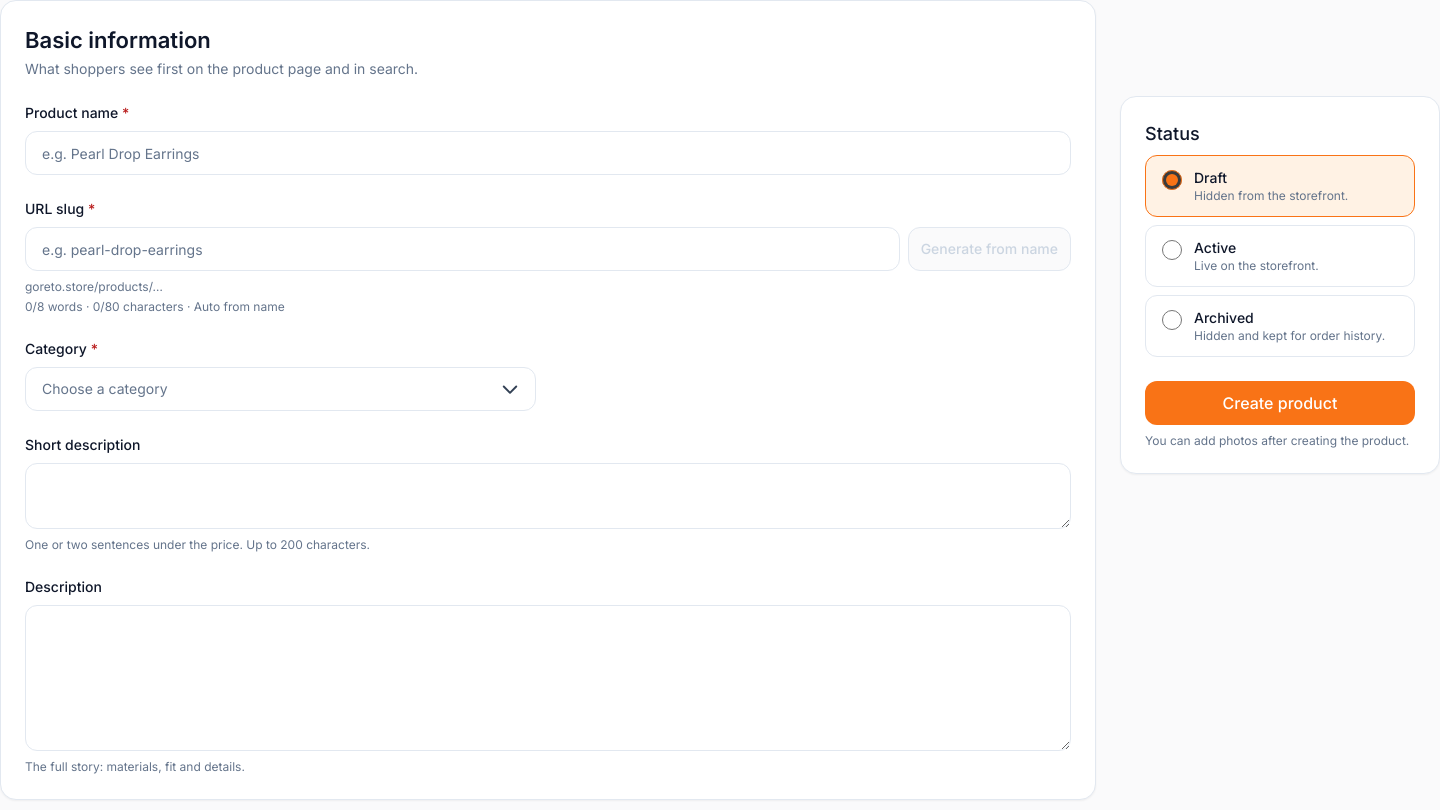
it: ProductForm › switches to a custom slug when typed, and back with Generate from name
Step 1. Type "Silk Scarf" into the field labelled "Product name *" → [548, 153], box 25,131 -> 1071,175
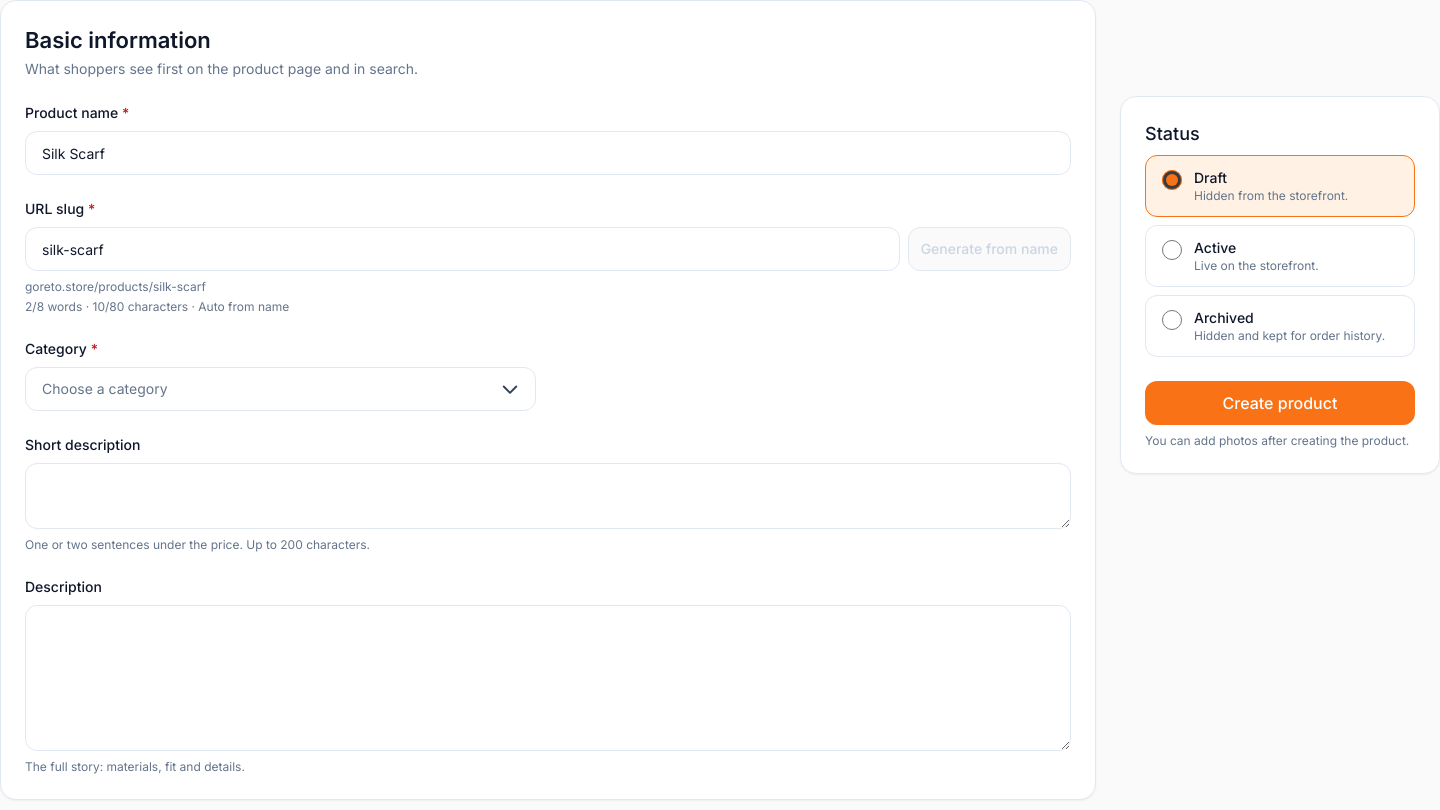
Step 2. Replace the text in the field labelled "URL slug *" with "Dhaka Topi Festival" → [462, 249], box 25,227 -> 900,271
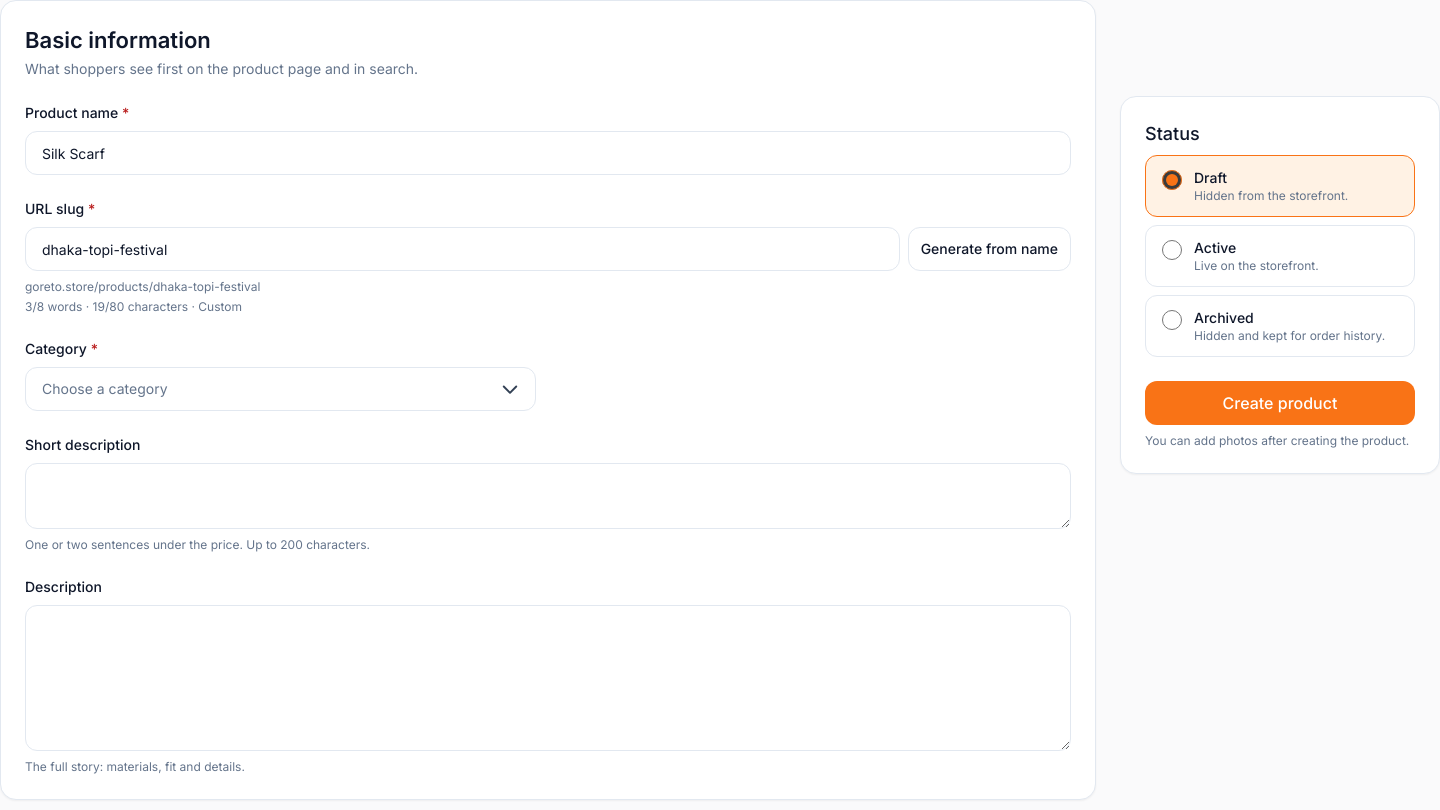
Expected: the field labelled "URL slug *" holds "dhaka-topi-festival", 25,227 -> 900,271
Expected: the text "3/8 words · 19/80 characters · Custom" is shown, 25,299 -> 242,314
Step 3. Replace the text in the field labelled "Product name *" with "Silk Scarf Blue" → [548, 153], box 25,131 -> 1071,175
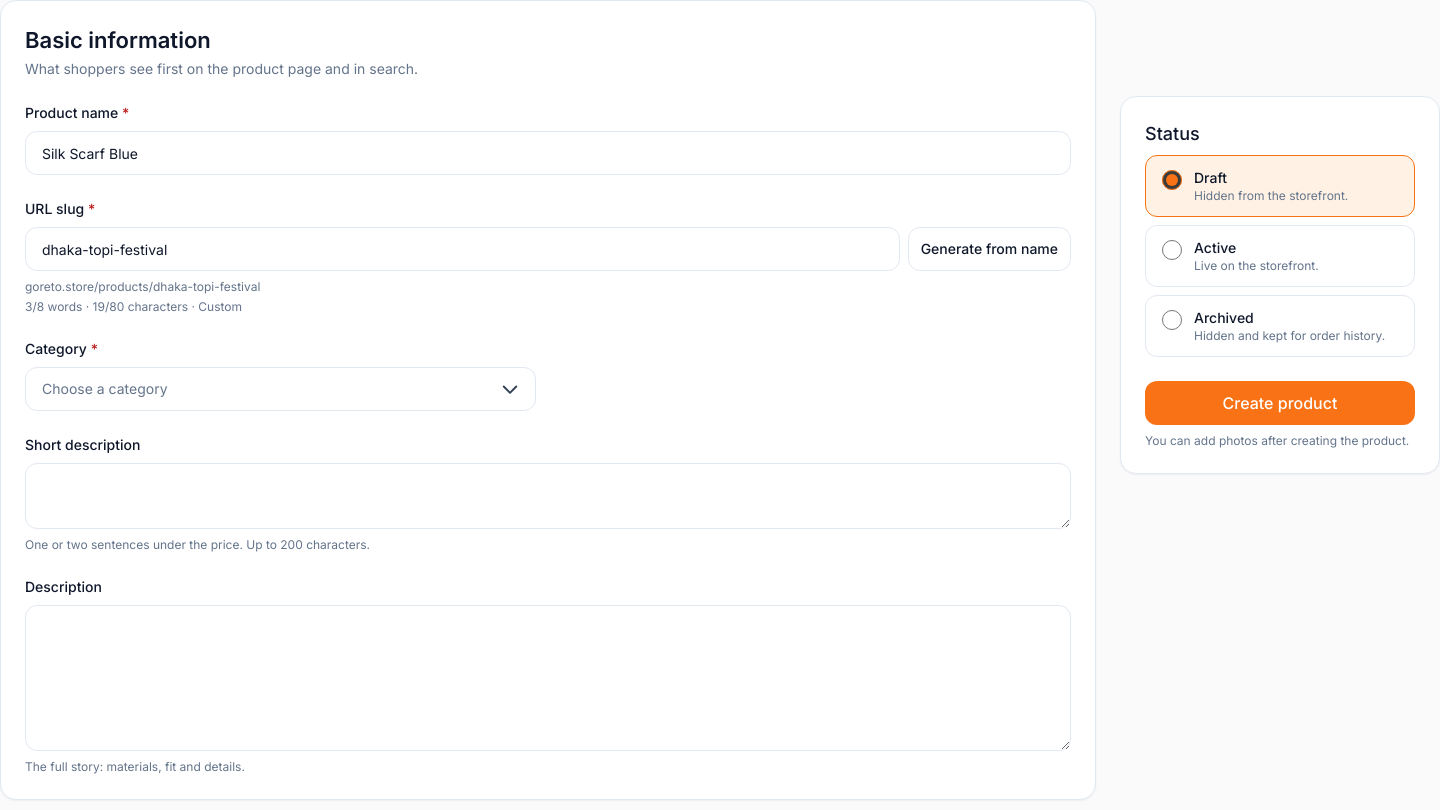
Expected: the field labelled "URL slug *" holds "dhaka-topi-festival", 25,227 -> 900,271
Step 4. Click the button "Generate from name" → [989, 249], box 908,227 -> 1071,271
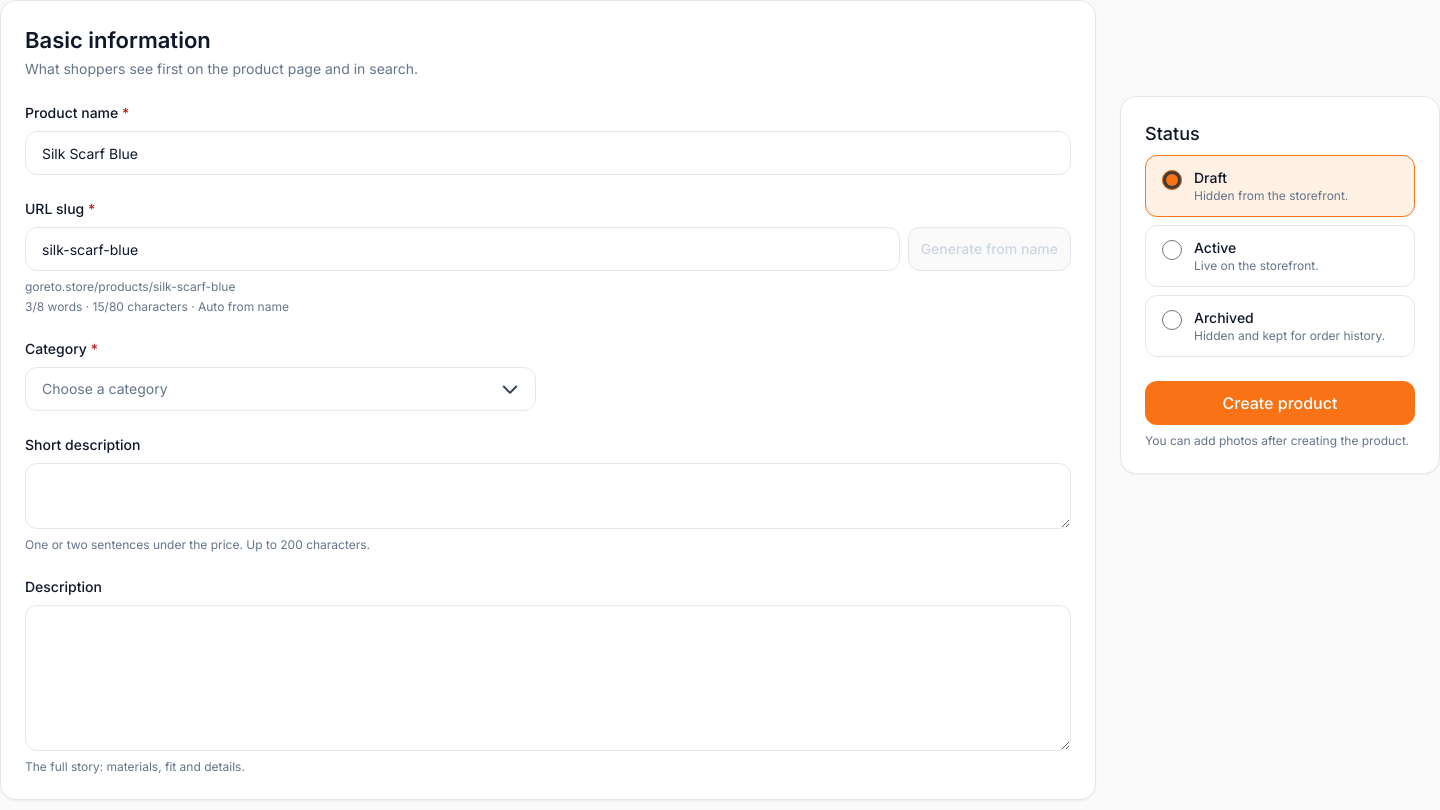
Expected: the field labelled "URL slug *" holds "silk-scarf-blue", 25,227 -> 900,271
Expected: the text "3/8 words · 15/80 characters · Auto from name" is shown, 25,299 -> 289,314
